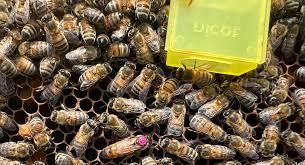Queen-Bee: (99, 133, 151, 160)
worker-bee: (39, 66, 75, 104), (68, 120, 106, 156), (219, 128, 260, 161), (187, 111, 228, 142), (40, 11, 71, 51), (107, 58, 139, 96), (129, 62, 160, 97), (74, 64, 117, 89), (97, 112, 134, 137), (158, 136, 198, 159), (128, 107, 173, 127), (224, 110, 256, 137), (104, 93, 142, 115), (169, 95, 187, 140), (193, 142, 236, 160), (48, 110, 96, 124)
